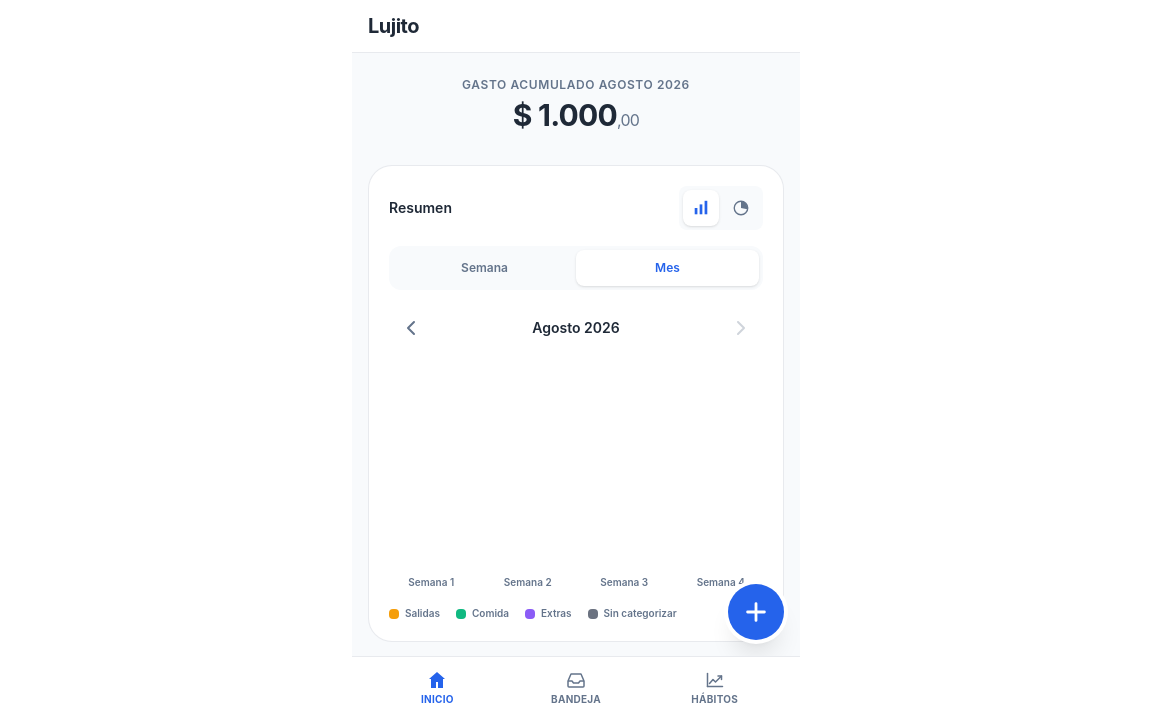
Test: PantallaDashboard — FAB de alta manual (Req. 1.1, 1.2, T6) › cerrar el modal desde "Cancelar" lo saca del DOM sin dejar el FAB inutilizable
Click the button with test id "fab-nuevo-gasto".
click(756, 612)  # box [728,584,784,640]
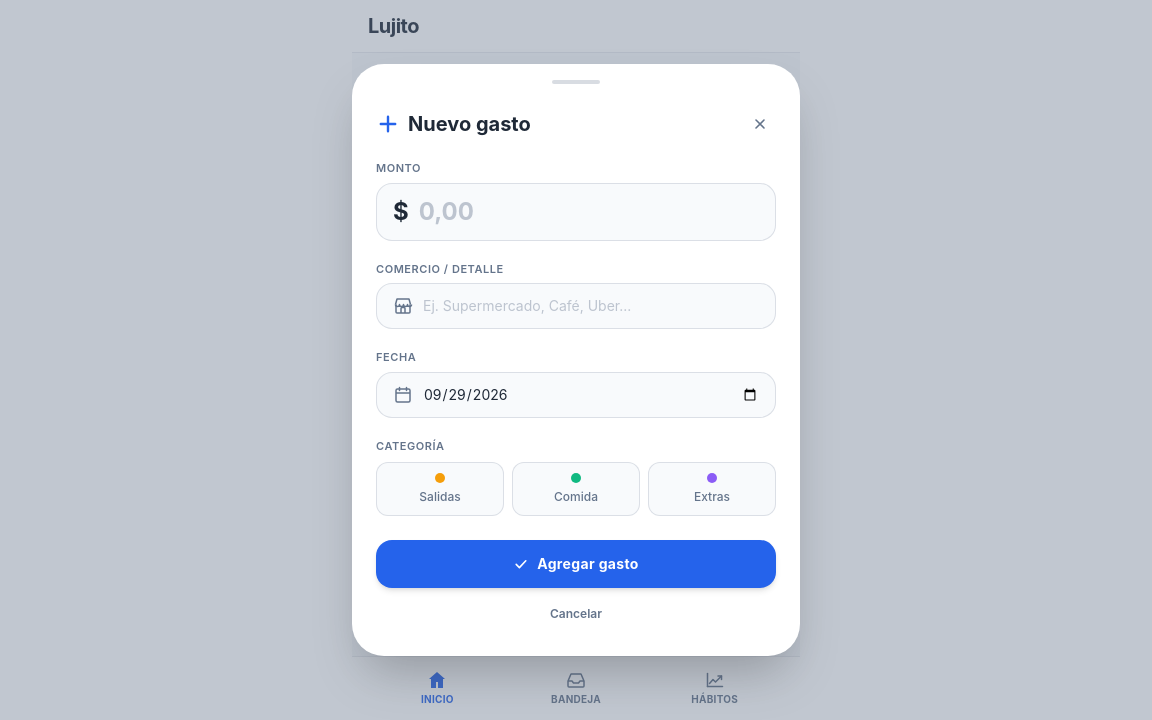
Expected: the form with test id "modal-nuevo-gasto" is shown, [352,64,800,656]
Click the button with test id "cancelar-nuevo-gasto".
click(576, 614)  # box [376,596,776,632]
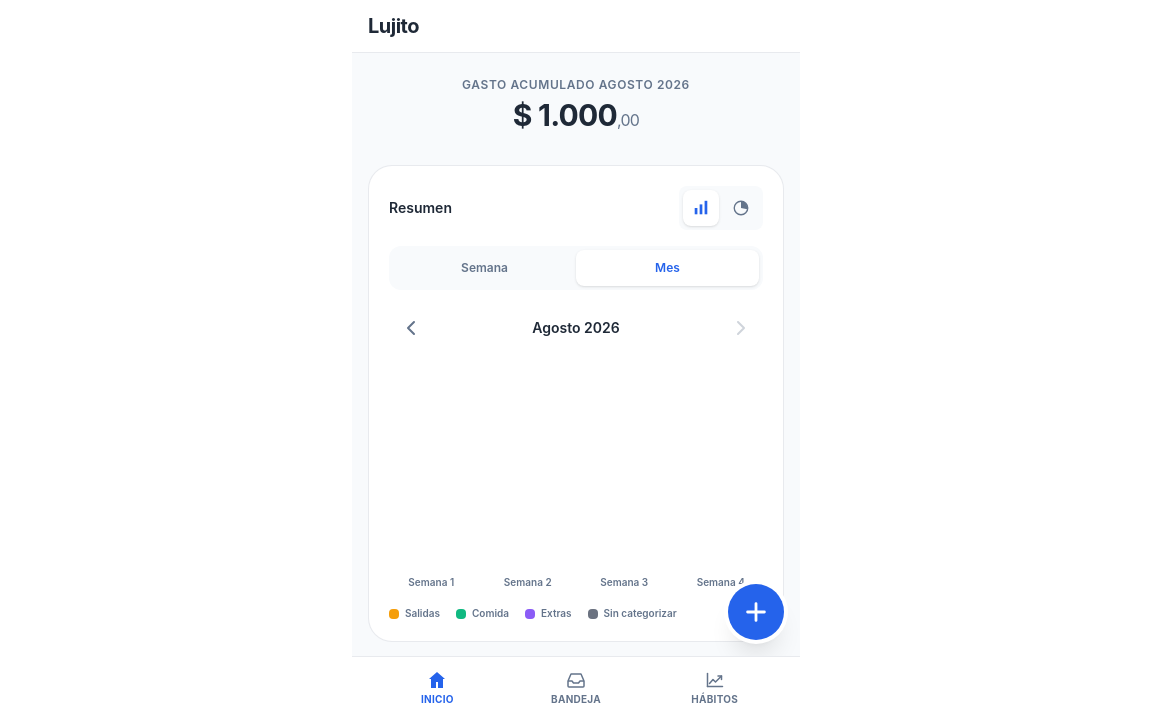
Expected: the form with test id "modal-nuevo-gasto" is gone
